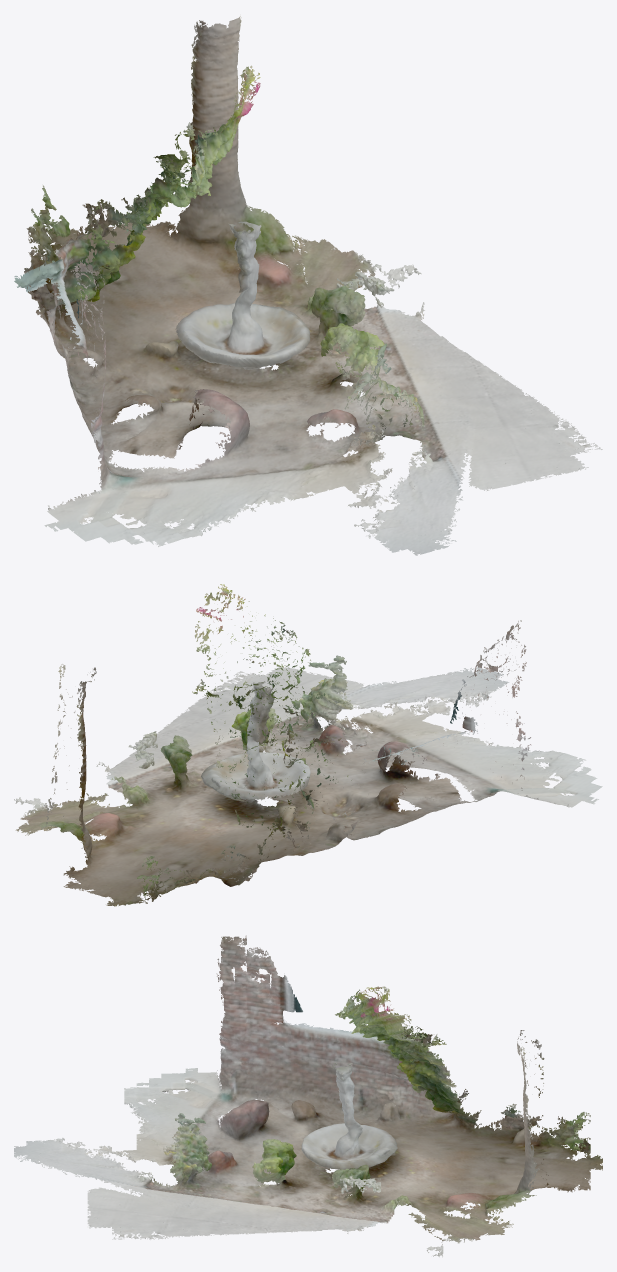
File: college-ave.glb
3 views of the same model, one above another, from view 1: azimuth 30°, elevation 25°; view 2: azimuth 150°, elevation 25°; view 3: azimuth 270°, elevation 25° (orthographic). The views are drawn at different scales.
Size of the model in its own units: 7.2 by 3.67 by 9.6.
